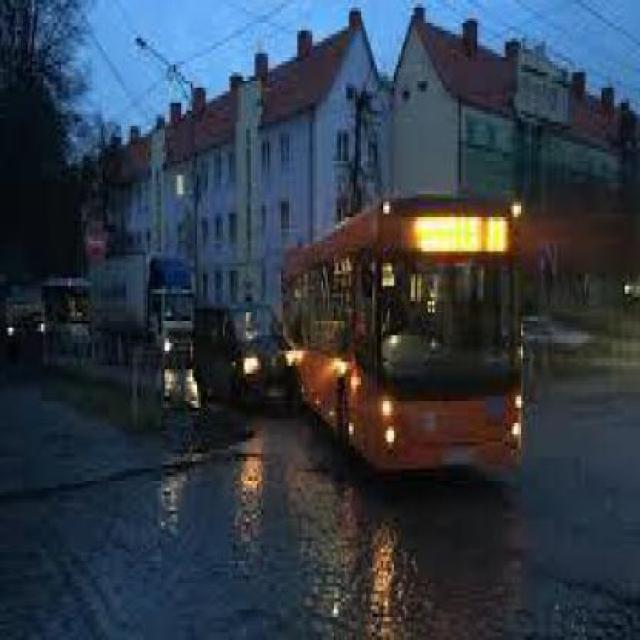bus: (287, 192, 523, 473)
truck: (87, 250, 196, 365)
